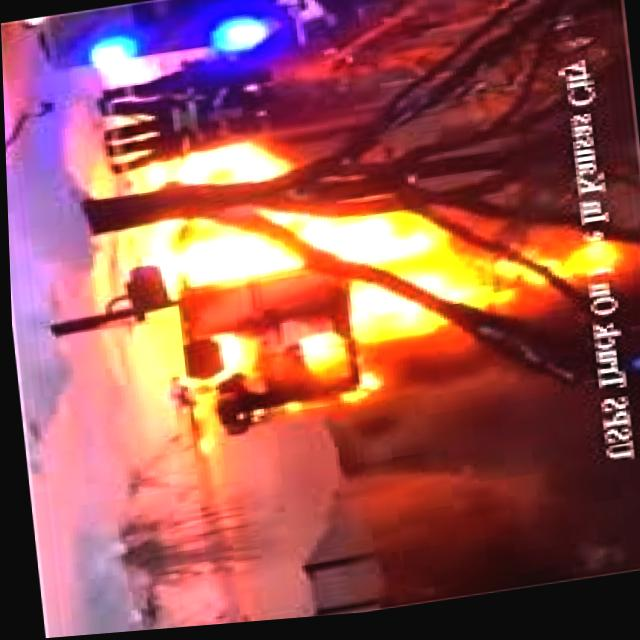helmet: (141, 100, 602, 417)
